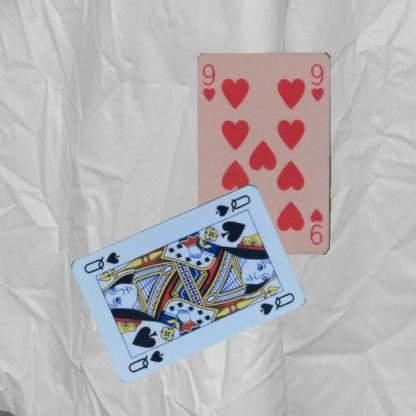9h: (200, 61, 217, 104), (308, 206, 324, 247)
Qs: (126, 346, 166, 374), (212, 191, 252, 218)
